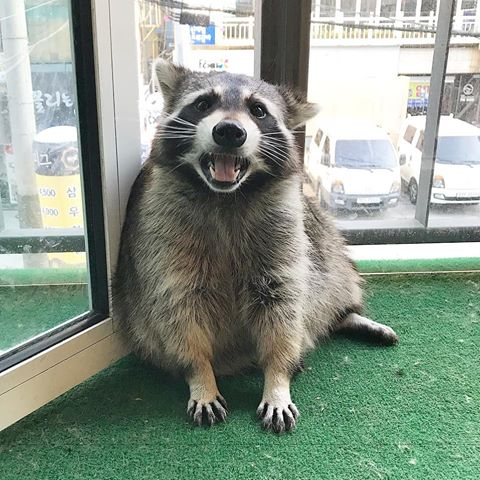raccoon: (88, 53, 421, 450)
